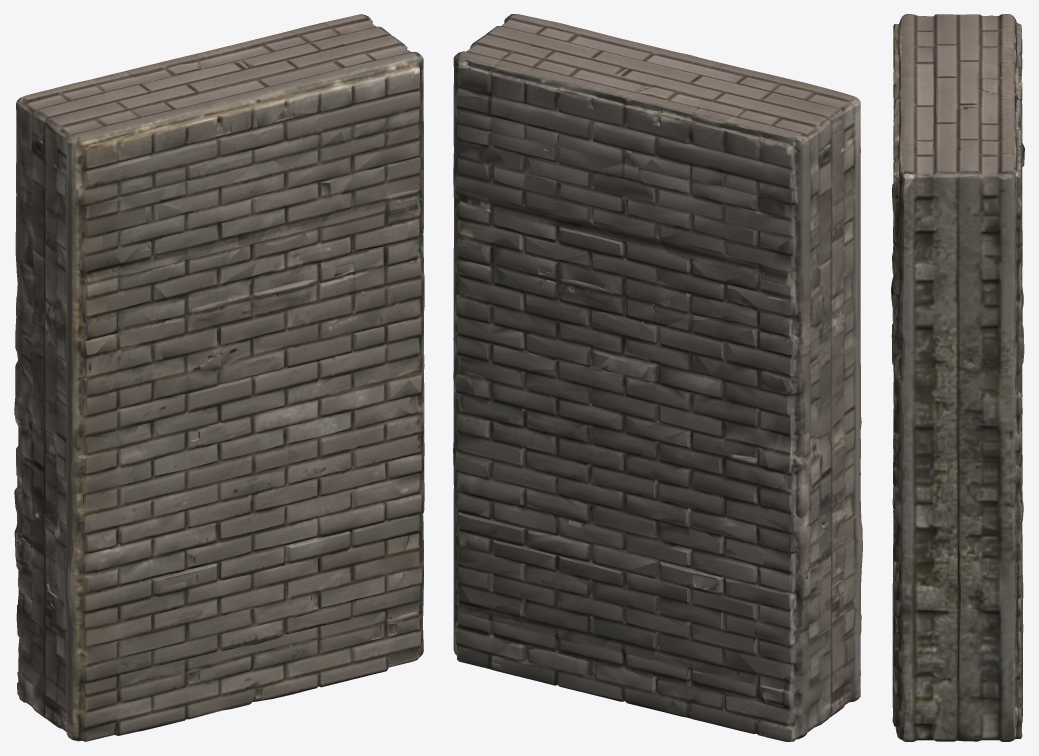
File: wall-panel.glb
3 renders of one model, left to right at view 1: azimuth 30°, elevation 25°; view 2: azimuth 150°, elevation 25°; view 3: azimuth 270°, elevation 25°, orthographic. The views are drawn at different scales.
Visible parts, largest first — view 1: geometry_0; view 2: geometry_0; view 3: geometry_0.
Part boxes in pixels (box(x1,y1,x2,y2)): geometry_0: box(14, 14, 424, 741); geometry_0: box(453, 14, 862, 741); geometry_0: box(891, 14, 1024, 741).
Size of the model in its own units: 1.2 by 1.93 by 0.4106.
Materials: 1 (1 with a texture image).
